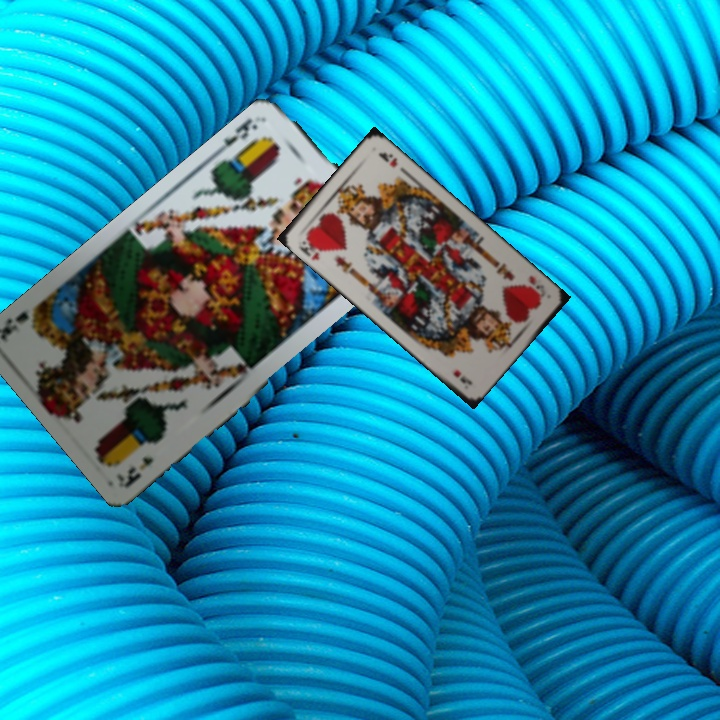EK: (219, 111, 269, 151), (123, 453, 156, 489)
HK: (294, 233, 325, 263), (523, 272, 549, 301)
